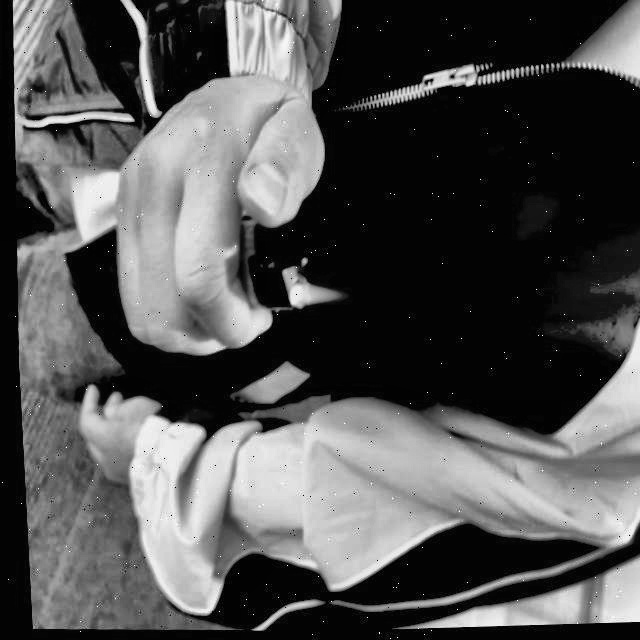Fire: (282, 280, 352, 316)
